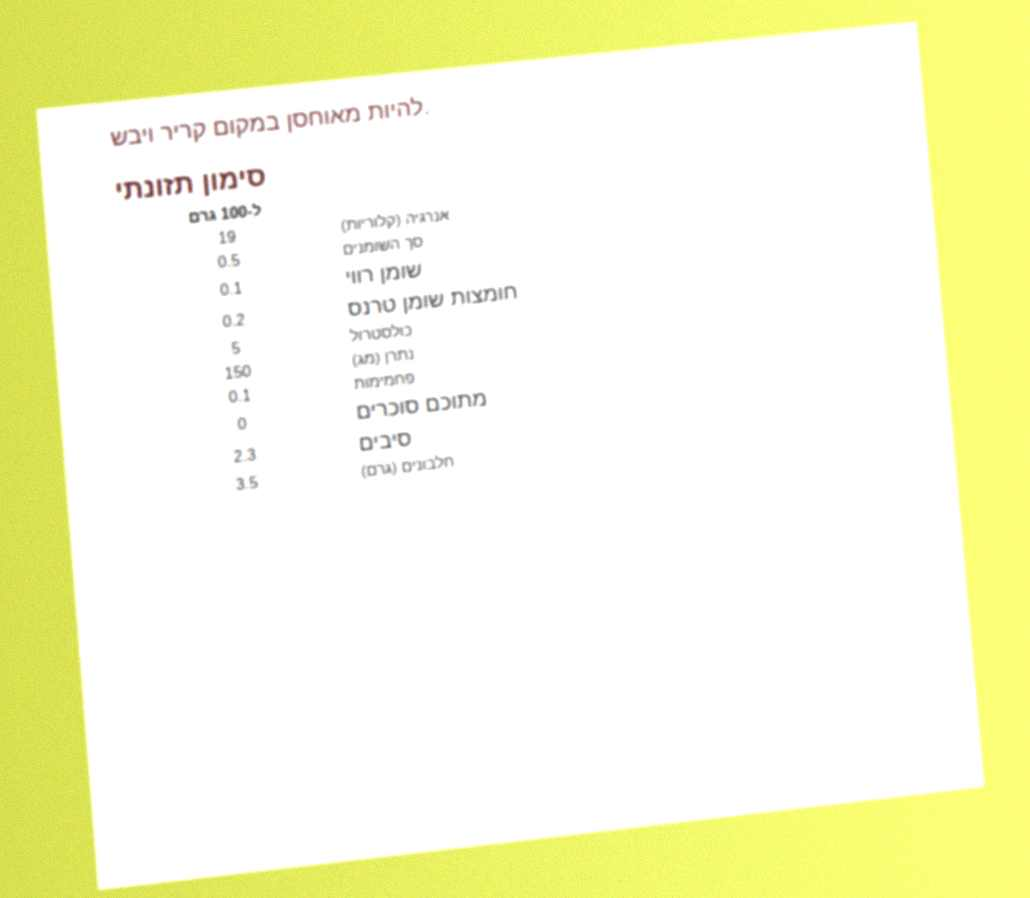carbs: (226, 384, 254, 408)
energy: (215, 226, 239, 249)
fat: (215, 249, 243, 273)
protein: (233, 472, 261, 496)
